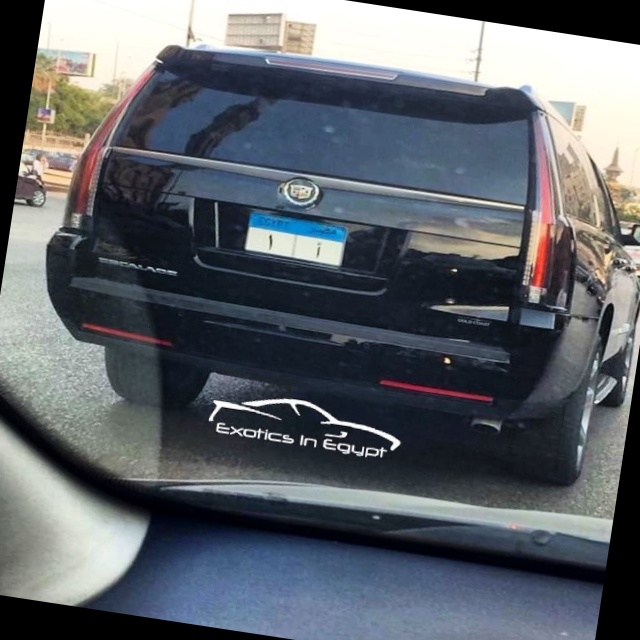License Plate: (240, 207, 352, 270)
